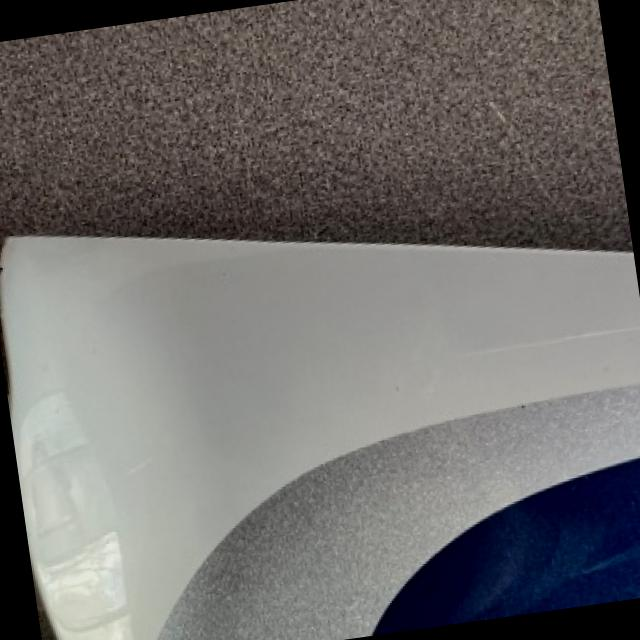healthy: (256, 390, 640, 640)
